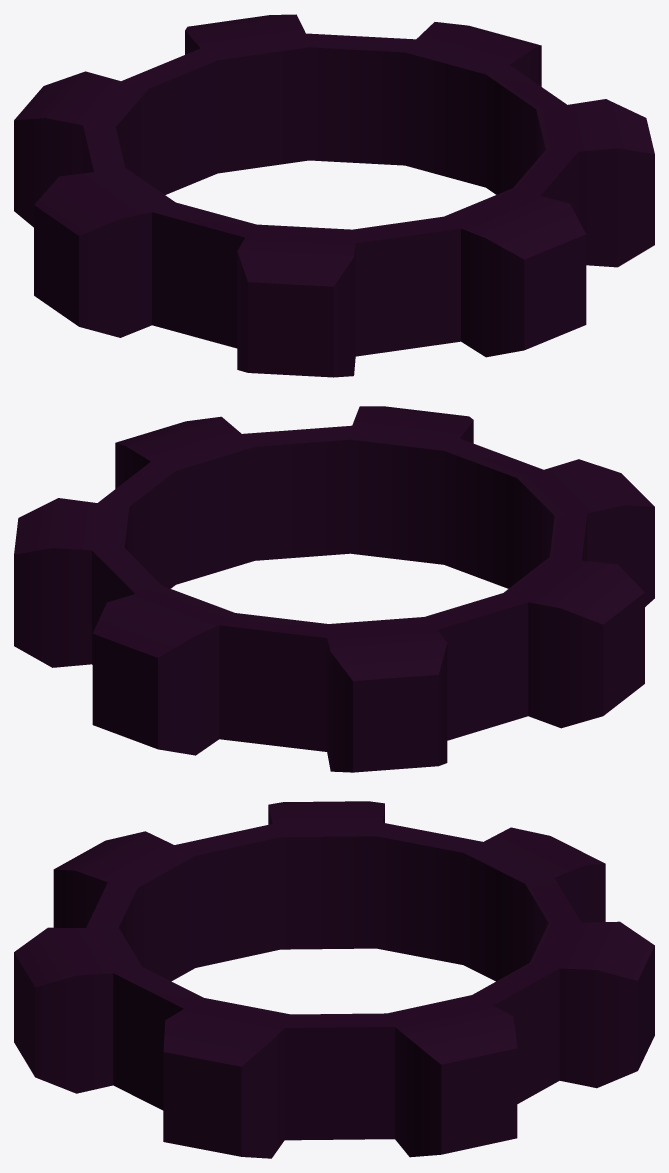
File: gear_D.FBX
The picture shows the model from 3 angles, top to bottom: view 1: azimuth 30°, elevation 25°; view 2: azimuth 150°, elevation 25°; view 3: azimuth 270°, elevation 25°; orthographic projection.
Parts seen in each view (by area): view 1: pillar_gearD; view 2: pillar_gearD; view 3: pillar_gearD.
Boxes of the visible parts, x1,y1,x2,y2 form: pillar_gearD: [14, 14, 654, 377]; pillar_gearD: [14, 406, 654, 772]; pillar_gearD: [14, 801, 654, 1158].
Bounding box in the file's own units: 10.14 × 2.1 × 10.35.
